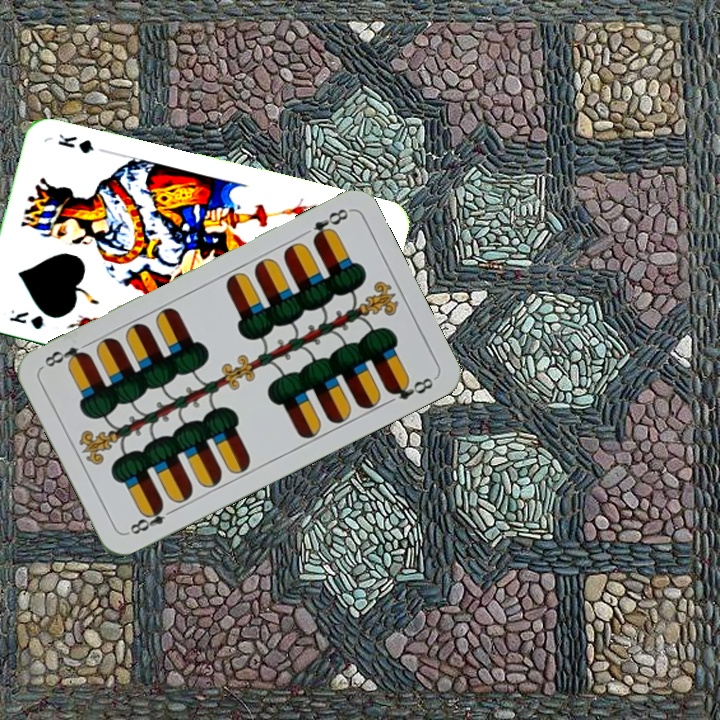E8: (123, 500, 179, 538), (308, 204, 351, 245)
GK: (5, 305, 47, 332)
